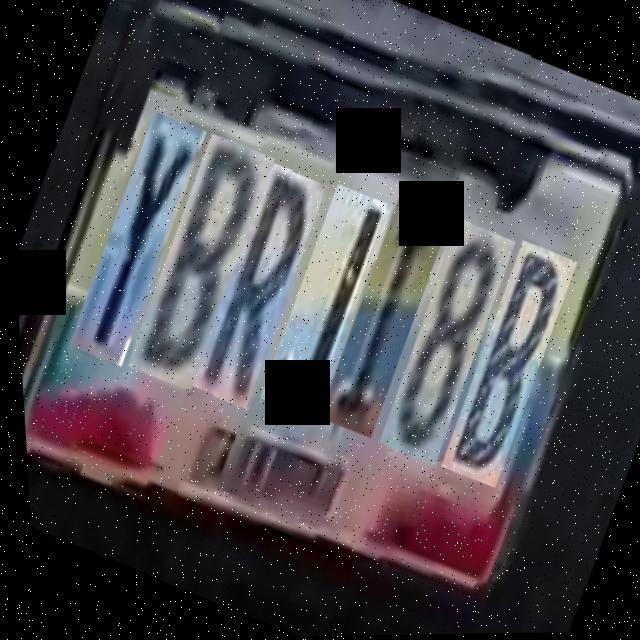8: (362, 217, 523, 466)
B: (111, 133, 284, 393), (424, 238, 585, 487)
I: (303, 198, 457, 439)
J: (245, 184, 400, 420)
R: (177, 163, 337, 410)
Y: (53, 110, 215, 367)
